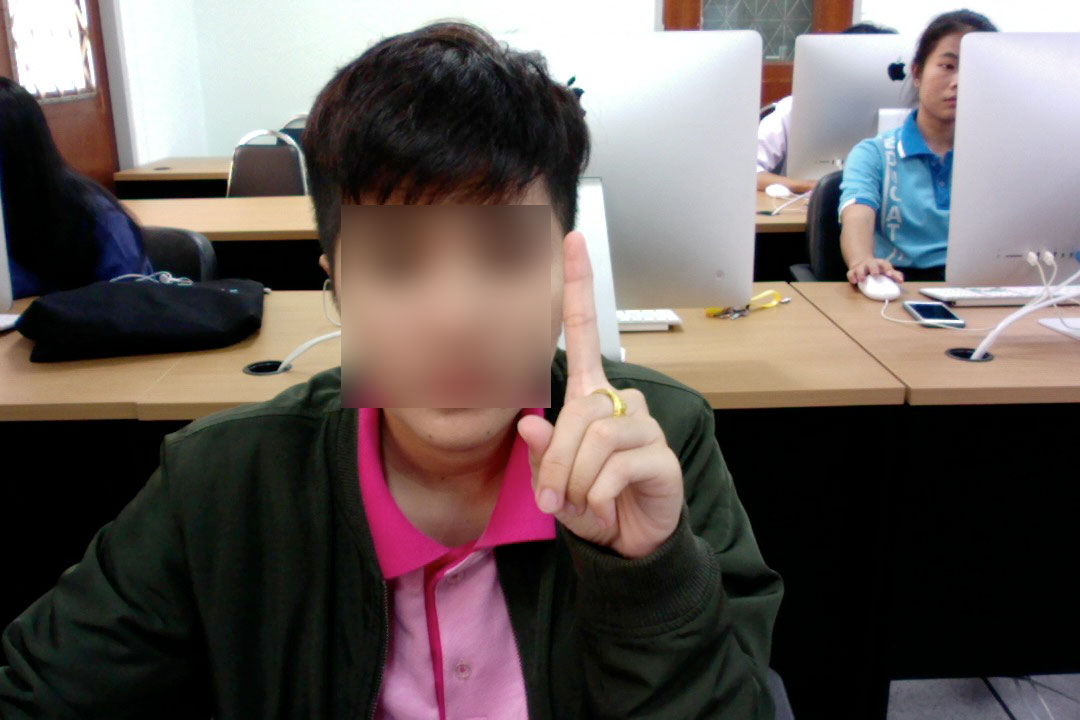dor: (506, 223, 699, 578)
